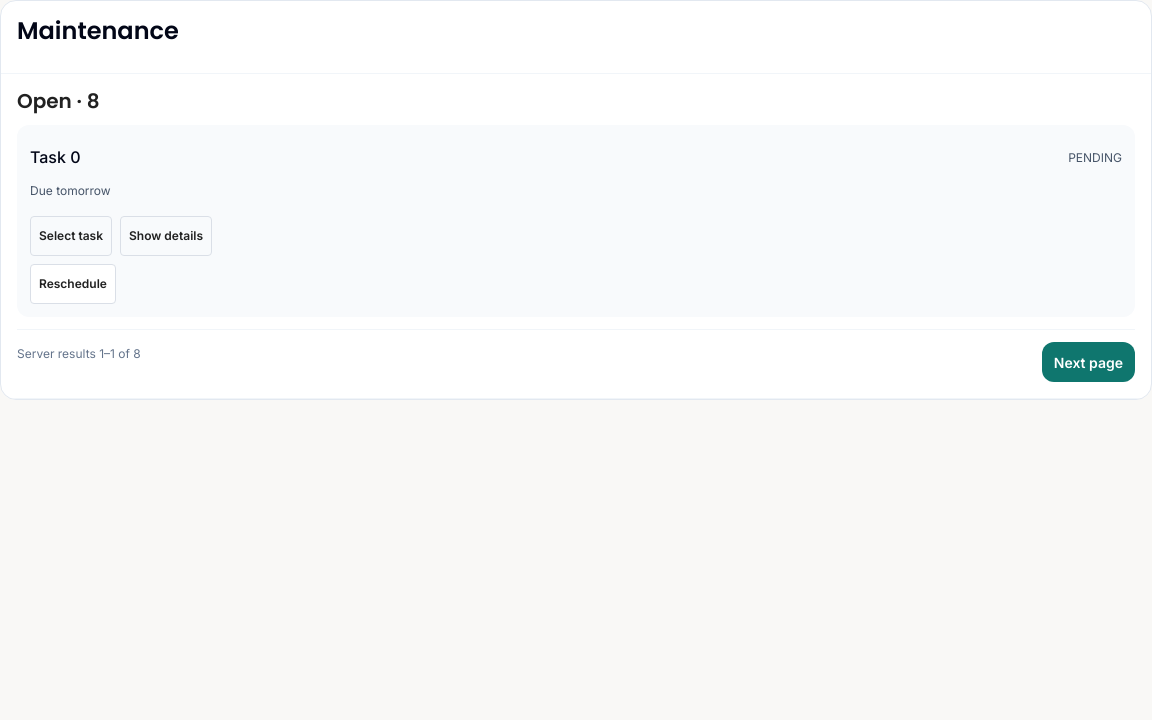
Test: workspace detail edits start the existing governed update confirmation with exact task identity
Click the button "Task 0".
click(55, 158)  # box [30,138,80,178]
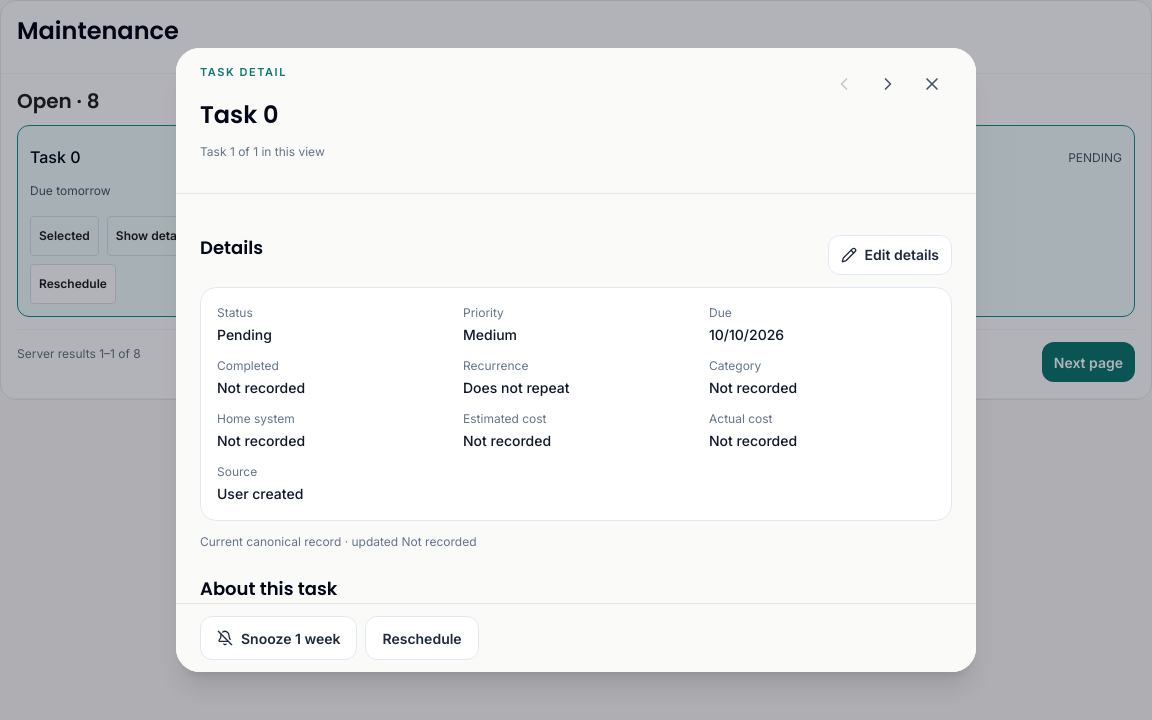
Result: the button "Edit details" is shown
Click the button "Edit details".
click(890, 255)  # box [828,235,952,275]
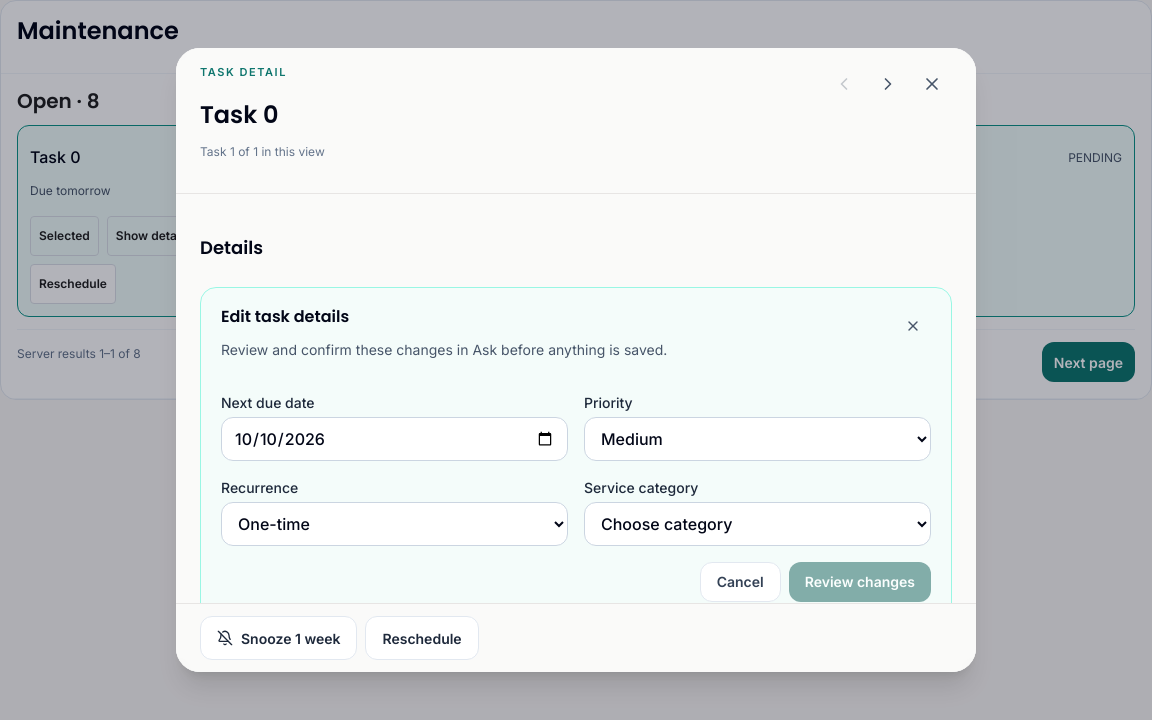
Result: the text "Review and confirm these changes in Ask before anything is saved." is shown at [221,338,667,360]
Type "2026-11-15" into the date field labelled "Next due date".
click(394, 438); type("2026-11-15")  # box [221,416,568,460]
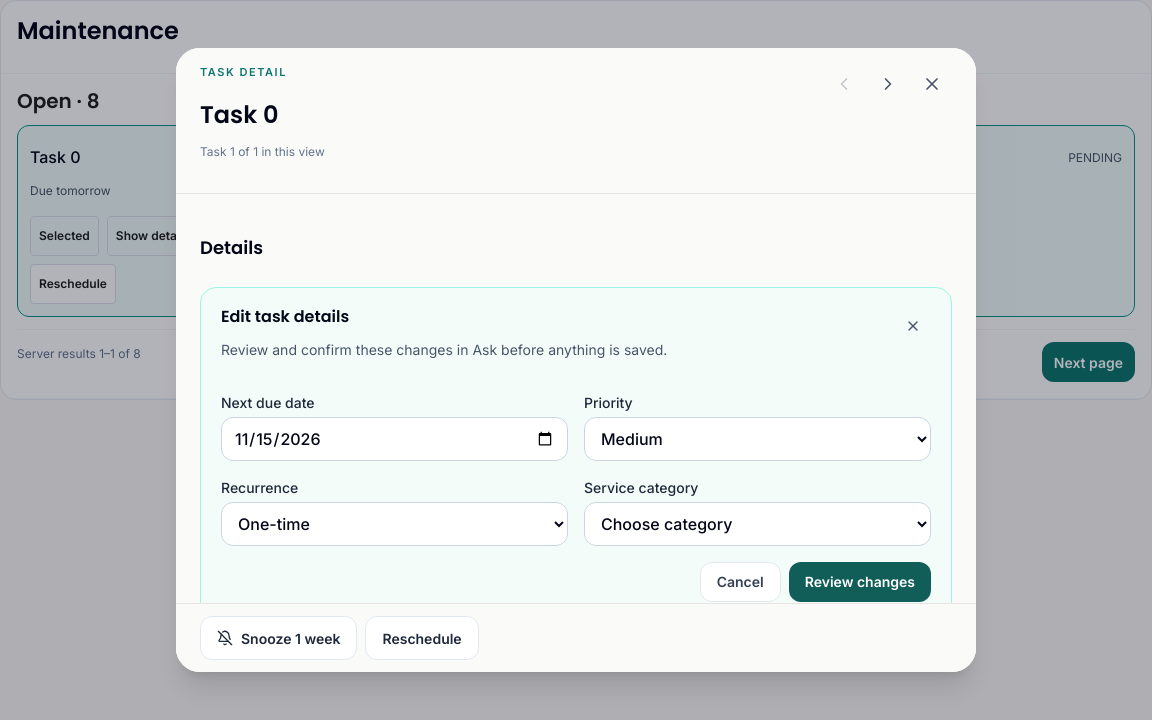
Select "High" in the dropdown labelled "Priority" at x=758, y=438, box [584,416,931,460]
Select "Semi-annually" in the dropdown labelled "Recurrence" at x=394, y=524, box [221,502,568,546]
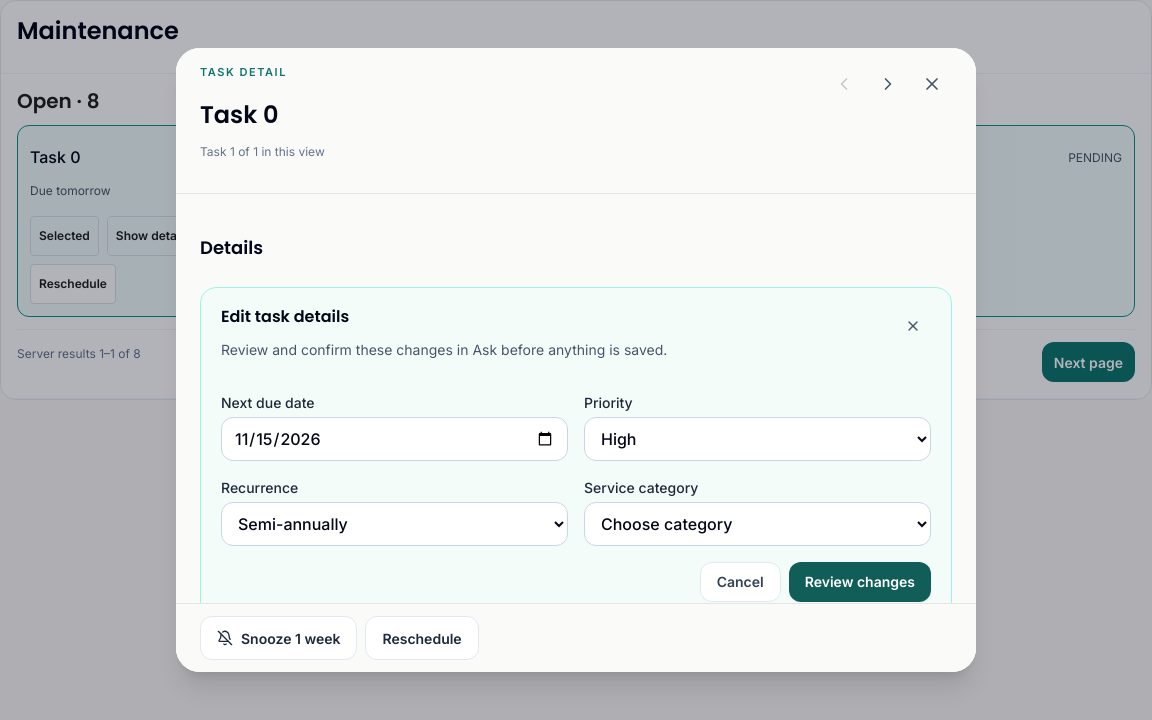
Select "HVAC" in the dropdown labelled "Service category" at x=758, y=524, box [584,502,931,546]
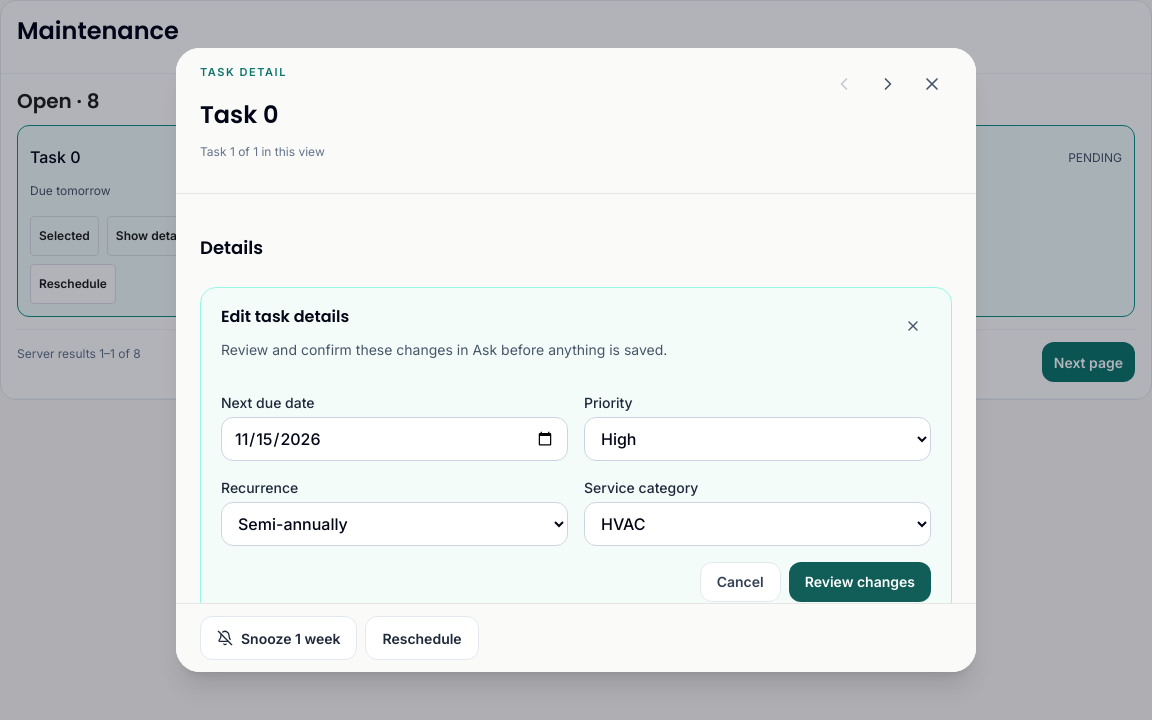
Click the button "Review changes".
click(860, 582)  # box [789,562,931,602]
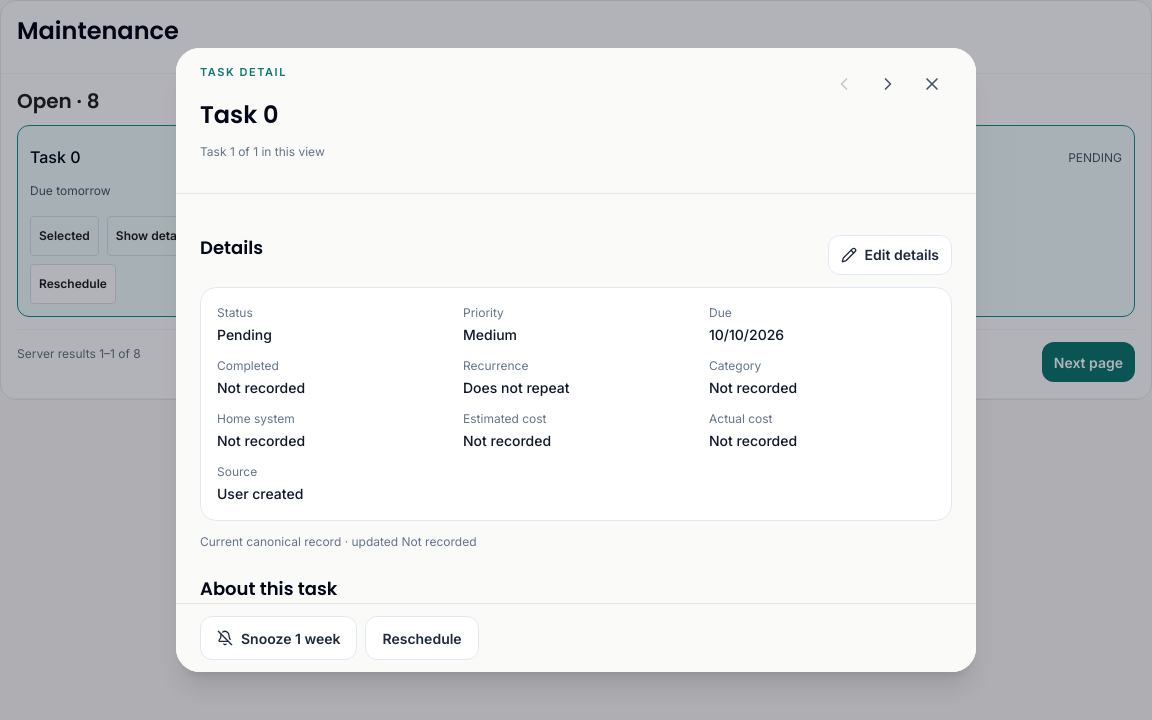
Result: the dialog named "Task detail: Task 0" is shown
Result: the button "Edit details" is shown at [828,235,952,275]
